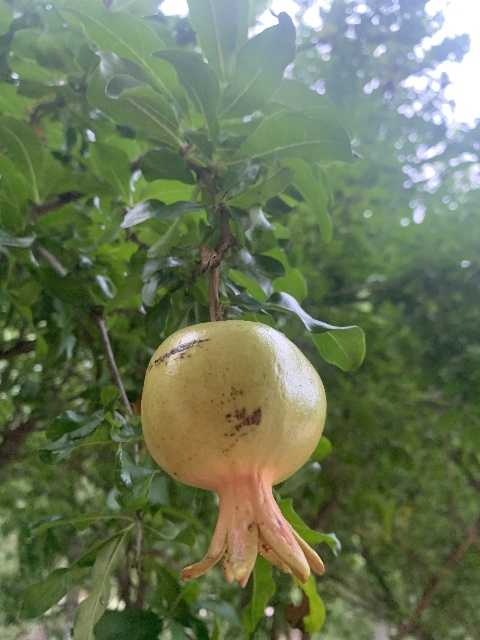mid-growth: (139, 317, 329, 590)
